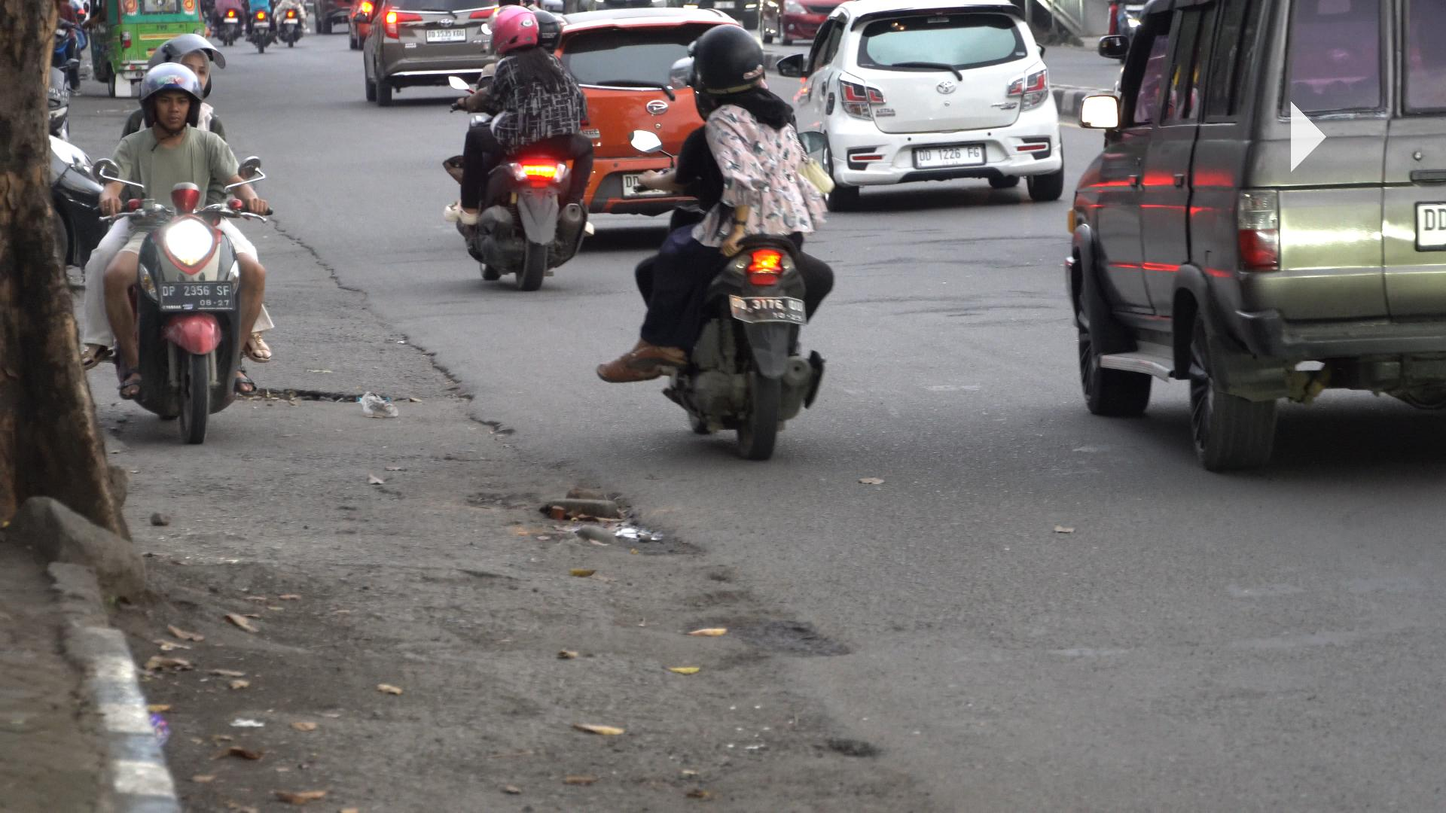number-plate: (156, 272, 237, 313)
